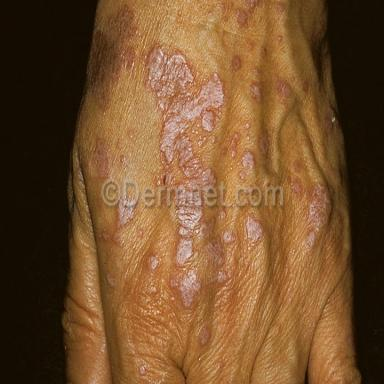lichen: (147, 47, 223, 186), (167, 206, 238, 310), (85, 5, 137, 108), (307, 184, 331, 247), (91, 139, 108, 179), (235, 0, 259, 27), (116, 205, 135, 230), (246, 217, 263, 243), (240, 150, 257, 170), (275, 79, 291, 99), (147, 255, 159, 272), (251, 82, 261, 102), (199, 327, 210, 345), (231, 56, 241, 72), (107, 272, 115, 287)
